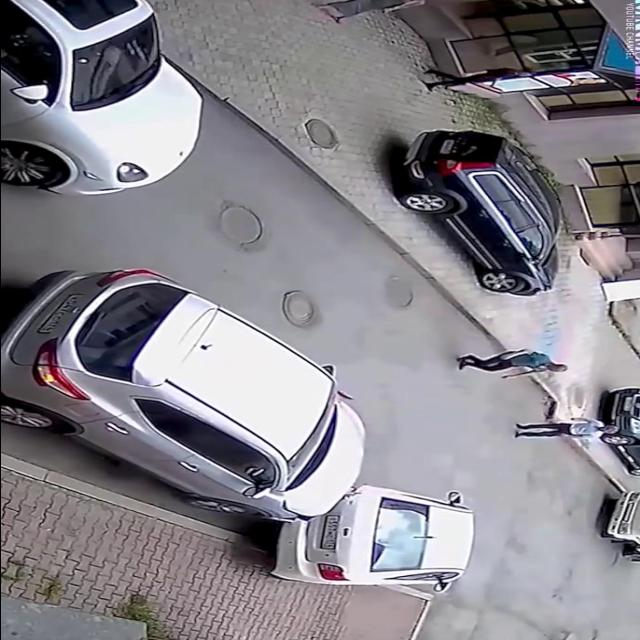accident: (0, 271, 498, 597)
